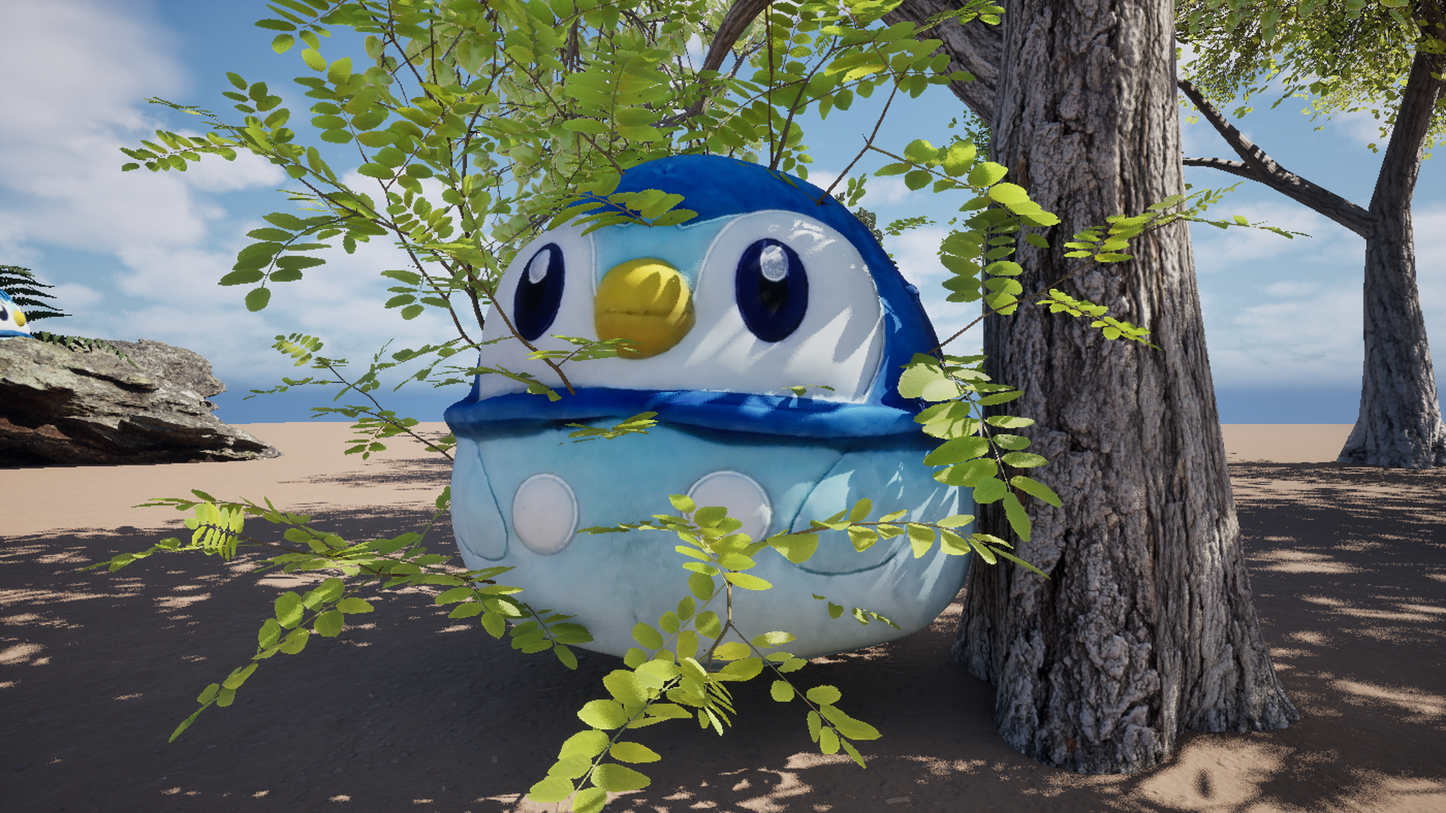Piplup: (288, 33, 1128, 780)
